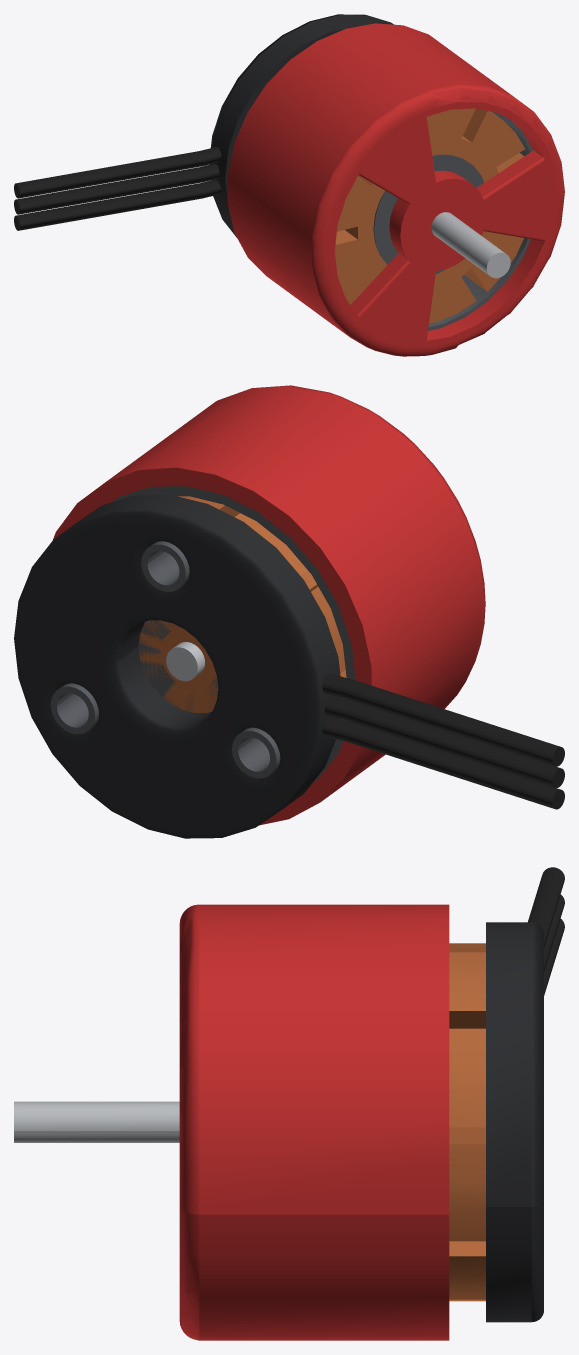
Rendered from betafpv-0802-22000kv.glb.
3 views of the same model, one above another, from view 1: azimuth 30°, elevation 25°; view 2: azimuth 150°, elevation 25°; view 3: azimuth 270°, elevation 25° (orthographic). The views are drawn at different scales.
Visible parts, largest first — view 1: bell, stator_windings, base, lead_3, lead_1, lead_2, shaft, stator_core, magnets; view 2: base, bell, stator_windings, lead_3, lead_1, lead_2, magnets, mount_hole_2, mount_hole_1, mount_hole_3, stator_core, shaft; view 3: bell, base, stator_windings, shaft, lead_3.
Boxes of the visible parts, x1,y1,x2,y2 form: bell: (227,23,564,356); stator_windings: (334,108,525,323); base: (209,14,393,237); lead_3: (14,147,221,198); lead_1: (14,179,221,230); lead_2: (14,163,219,214); shaft: (431,212,510,278); stator_core: (373,154,484,273); magnets: (428,112,533,330); base: (14,495,342,838); bell: (52,385,485,825); stator_windings: (139,496,346,719); lead_3: (322,673,564,766); lead_1: (322,717,564,809); lead_2: (324,695,564,787); magnets: (111,486,355,782); mount_hole_2: (232,727,280,778); mount_hole_1: (141,541,189,591); mount_hole_3: (50,683,98,734); stator_core: (138,620,218,711); shaft: (166,642,204,681); bell: (179,904,449,1340); base: (486,922,543,1322); stator_windings: (449,943,485,1301); shaft: (14,1101,179,1142); lead_3: (528,867,564,947).
Bounding box in the file's own units: 17.9 × 10.53 × 13.3.
